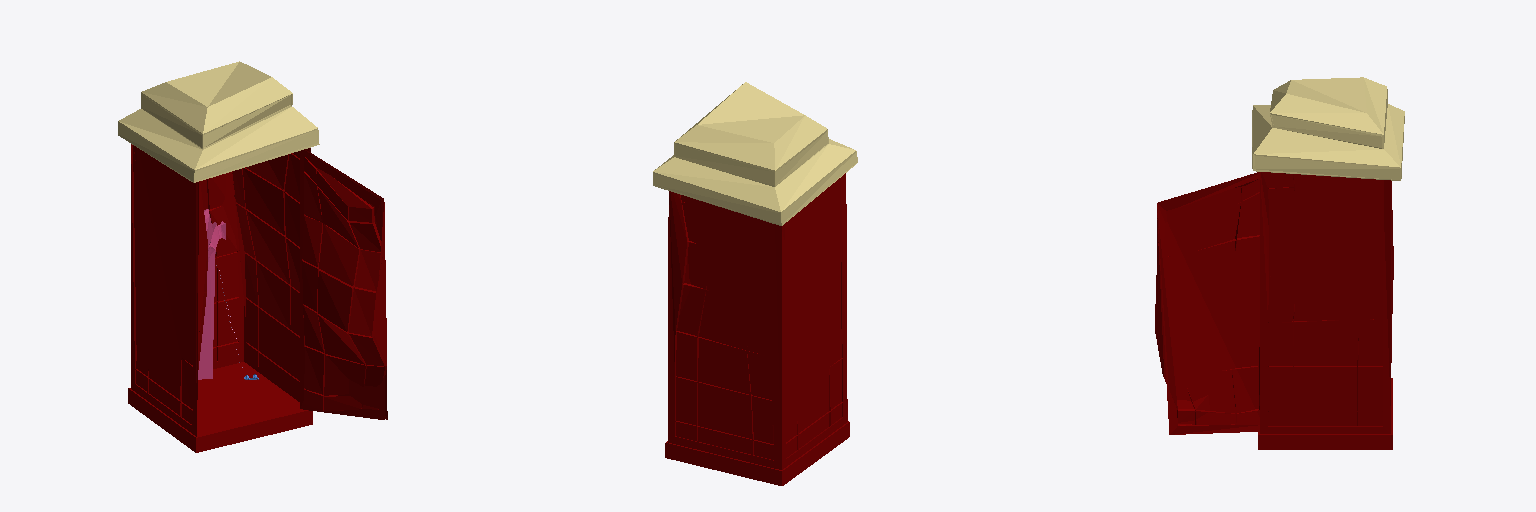
The model's file is BrokenPhoneBooth_001.obj.
3 views of the same model, side by side, from view 1: azimuth 30°, elevation 25°; view 2: azimuth 150°, elevation 25°; view 3: azimuth 270°, elevation 25° (orthographic).
Visible parts, largest first — view 1: Box001, door, Box003, Box002; view 2: Box001, Box003; view 3: Box001, door, Box003.
Boxes of the visible parts, x1,y1,x2,y2 form: Box001: [128, 144, 312, 452]; door: [300, 149, 387, 419]; Box003: [118, 61, 319, 182]; Box002: [198, 209, 225, 379]; Box001: [665, 173, 849, 485]; Box003: [653, 82, 857, 225]; Box001: [1258, 172, 1393, 449]; door: [1155, 172, 1259, 434]; Box003: [1252, 77, 1404, 180].
Size of the model in its own units: 104 by 225 by 148.